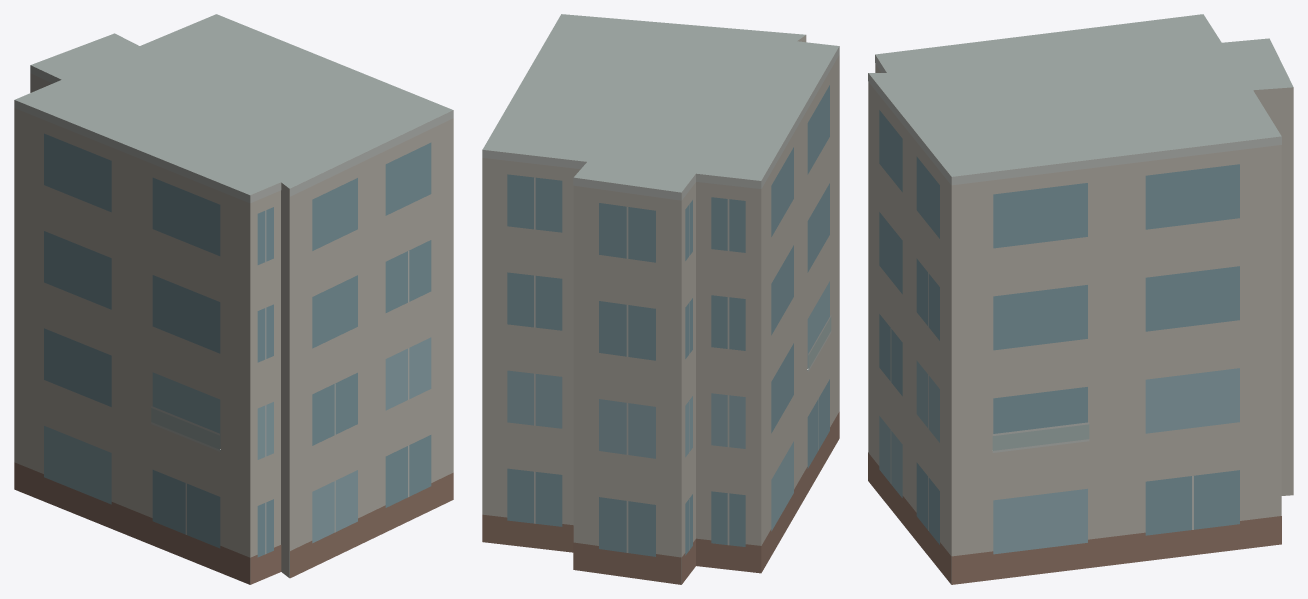
Rendered from survey-upis-32602565.glb.
3 renders of one model, left to right at view 1: azimuth 30°, elevation 25°; view 2: azimuth 150°, elevation 25°; view 3: azimuth 270°, elevation 25°, orthographic. The views are drawn at different scales.
Parts seen in each view (by area): view 1: survey-upis-32602565.tmp; view 2: survey-upis-32602565.tmp; view 3: survey-upis-32602565.tmp.
Part boxes in pixels (x1,y1,x2,y2): survey-upis-32602565.tmp: (14,14,453,584); survey-upis-32602565.tmp: (482,14,839,584); survey-upis-32602565.tmp: (868,14,1293,584).
Size of the model in its own units: 10.12 by 11.8 by 11.16.
